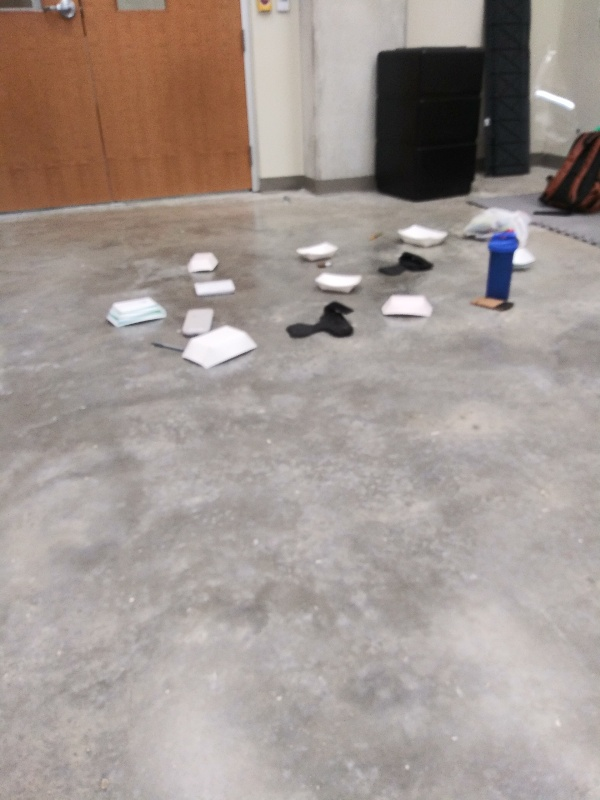plate: (177, 325, 261, 372), (105, 293, 170, 334), (389, 221, 453, 250), (378, 291, 434, 320), (312, 269, 364, 298), (292, 239, 341, 263), (183, 249, 222, 276), (505, 243, 538, 273)
